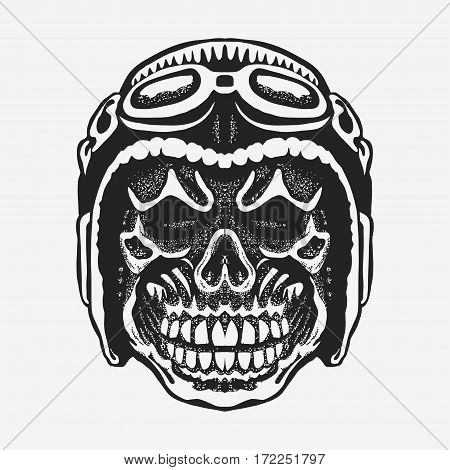with_helmet: (68, 35, 380, 378)
